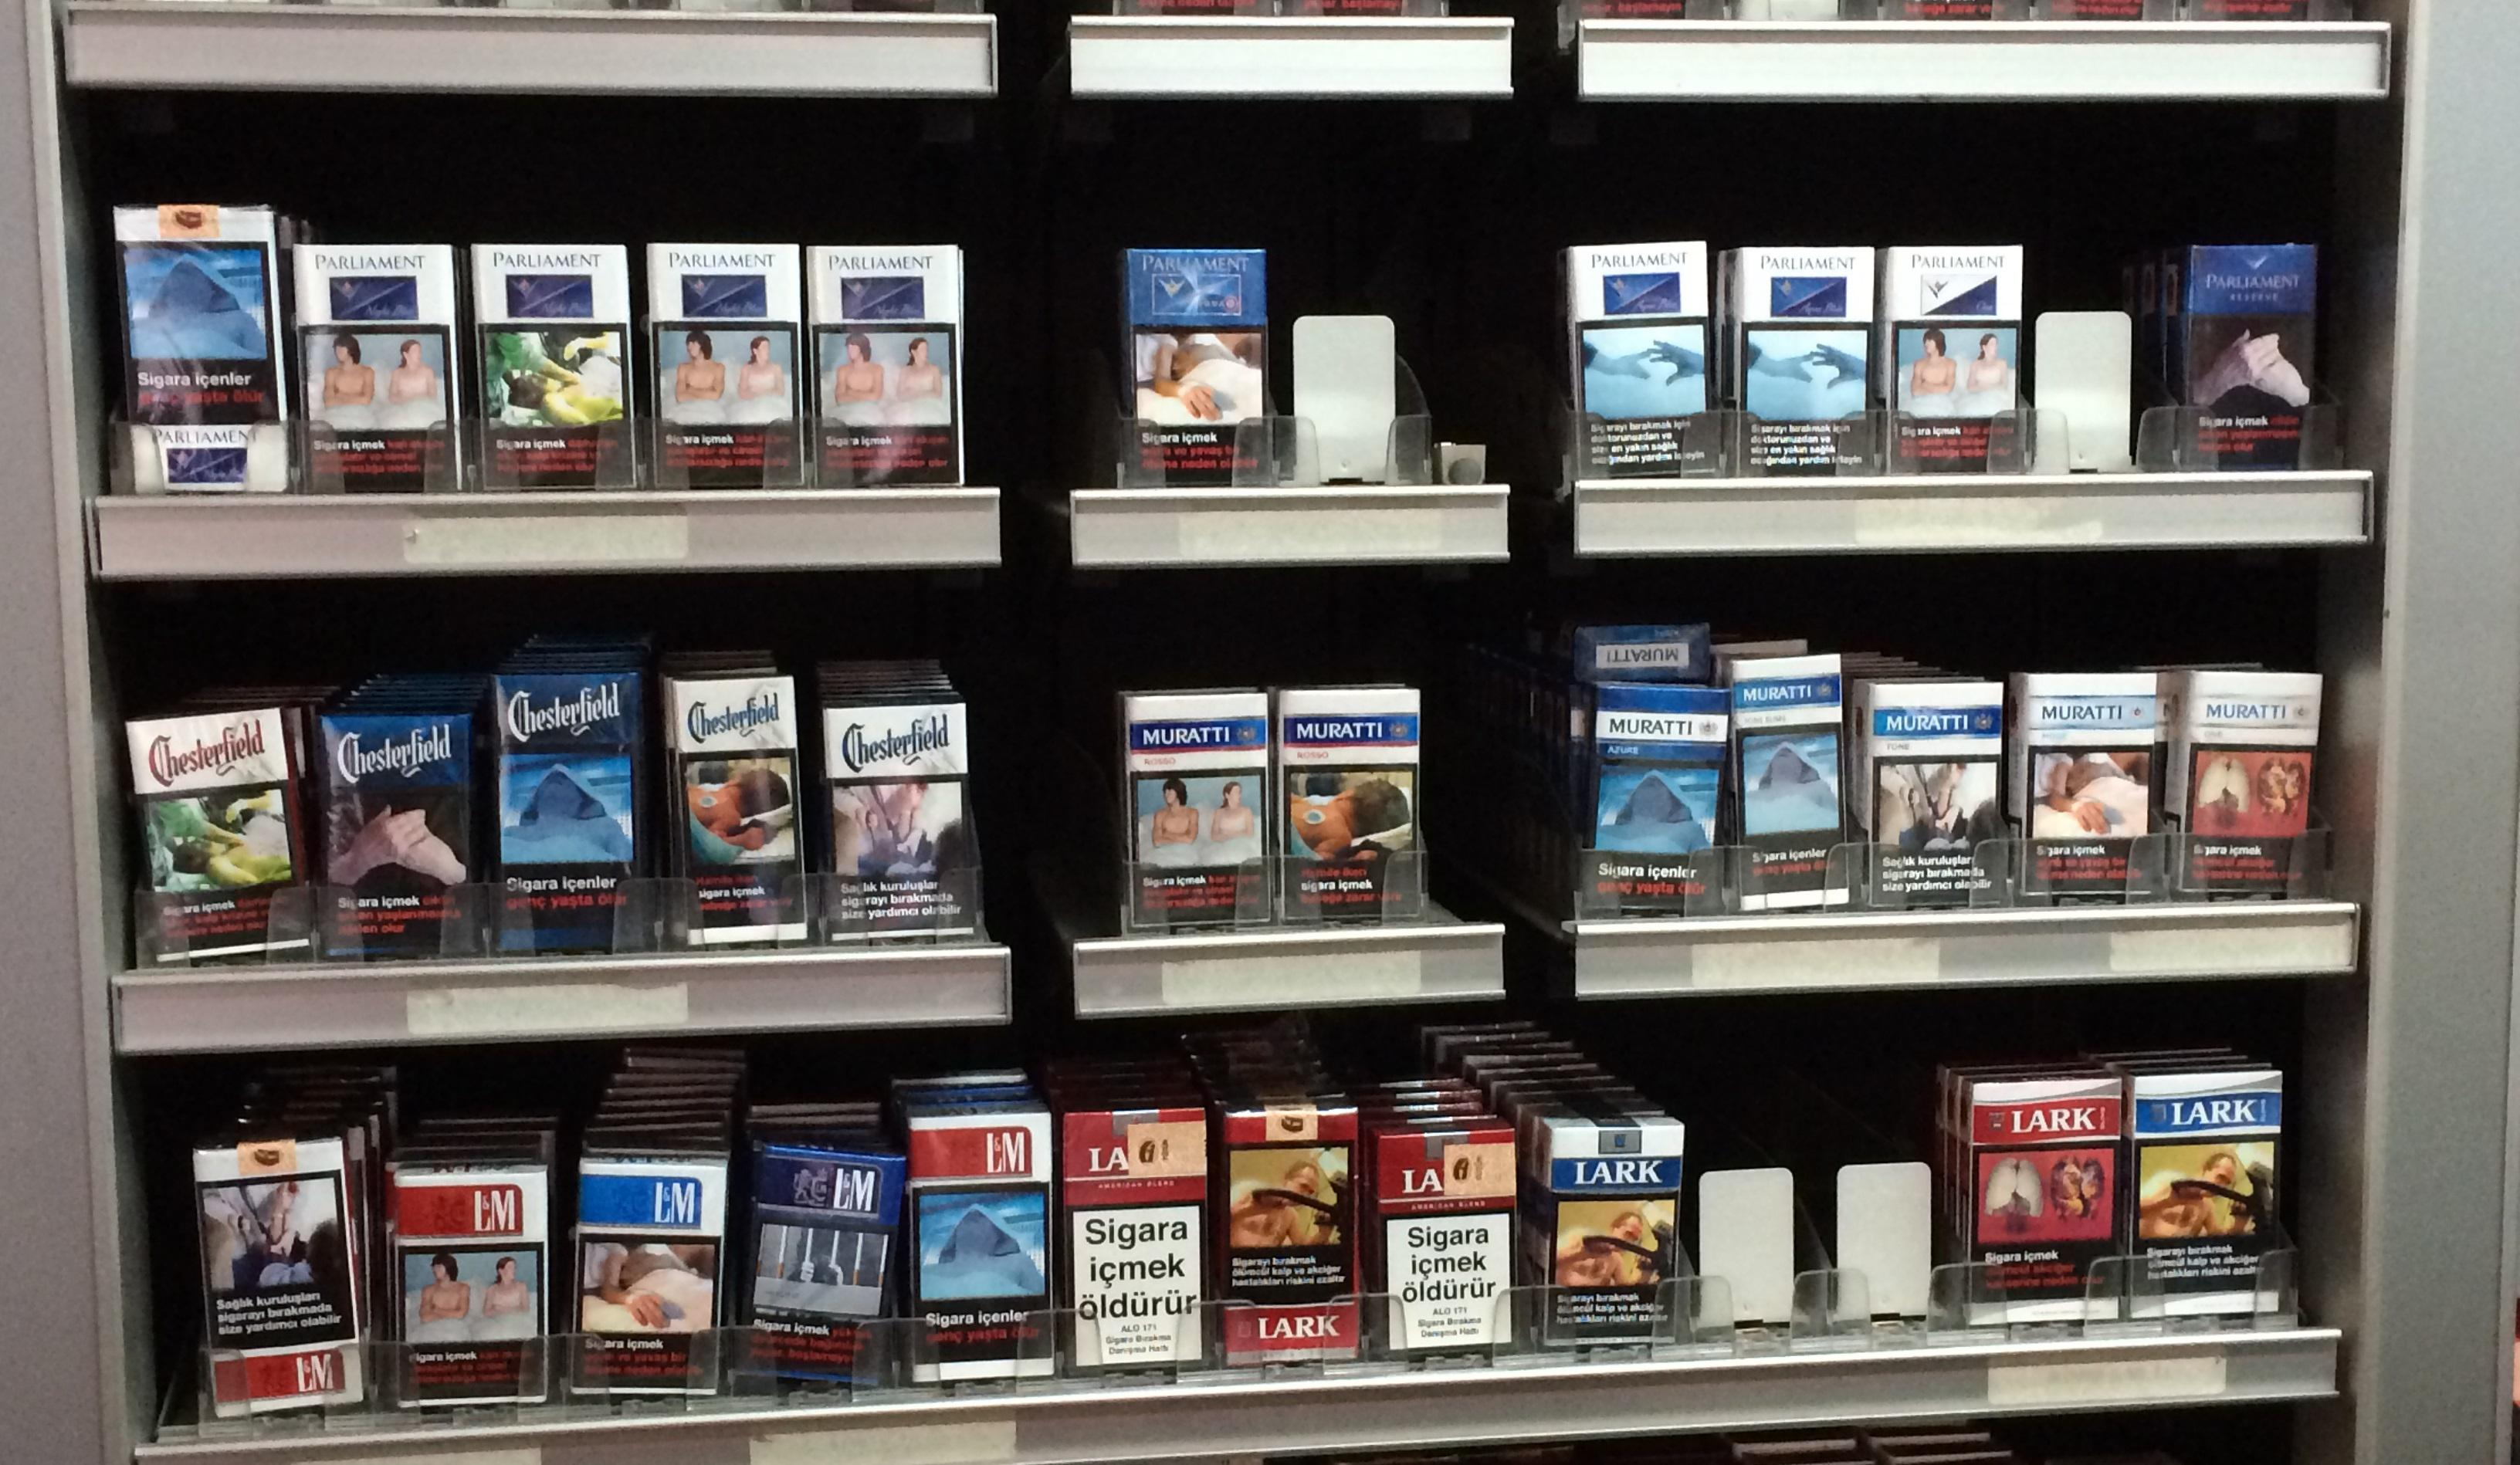product: (106, 202, 303, 501), (448, 223, 647, 495), (1104, 223, 1301, 495), (788, 232, 985, 504), (276, 228, 473, 501), (631, 227, 828, 497), (1057, 1097, 1236, 1381), (1205, 1088, 1385, 1371), (888, 1106, 1066, 1390), (188, 1130, 368, 1406), (377, 1149, 556, 1425), (560, 1149, 739, 1425), (480, 659, 652, 945), (727, 1134, 905, 1409), (1711, 223, 1885, 495), (122, 692, 295, 964), (2159, 208, 2332, 480), (312, 685, 485, 957), (1549, 232, 1721, 504), (1866, 215, 2039, 485), (2129, 1066, 2307, 1305), (1360, 1125, 1538, 1362), (1536, 1109, 1714, 1346), (1941, 1069, 2119, 1306), (1270, 673, 1430, 933), (1570, 668, 1730, 928), (820, 696, 980, 954), (1109, 671, 1270, 930), (668, 659, 813, 945), (1727, 645, 1866, 905), (1859, 677, 2007, 917), (2023, 664, 2171, 905), (2182, 652, 2330, 893)
